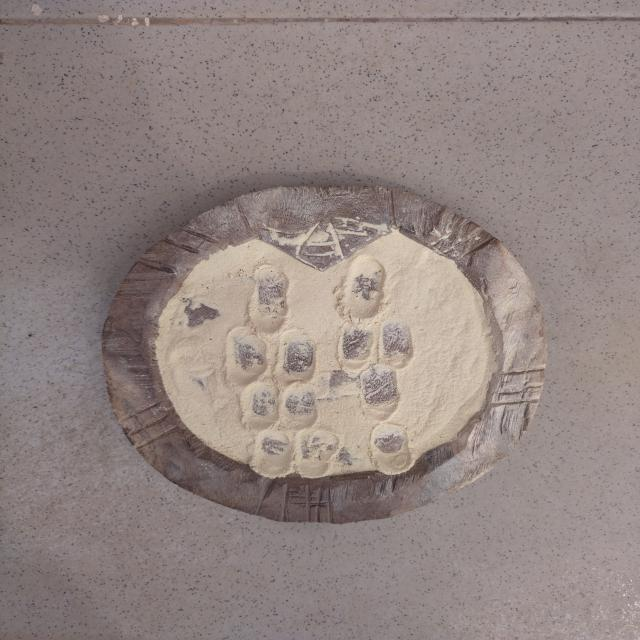double: (226, 327, 318, 388), (240, 382, 320, 432), (254, 428, 336, 476), (340, 320, 417, 370)
single: (246, 264, 294, 336), (346, 258, 390, 320), (356, 364, 404, 420), (371, 418, 414, 473)
